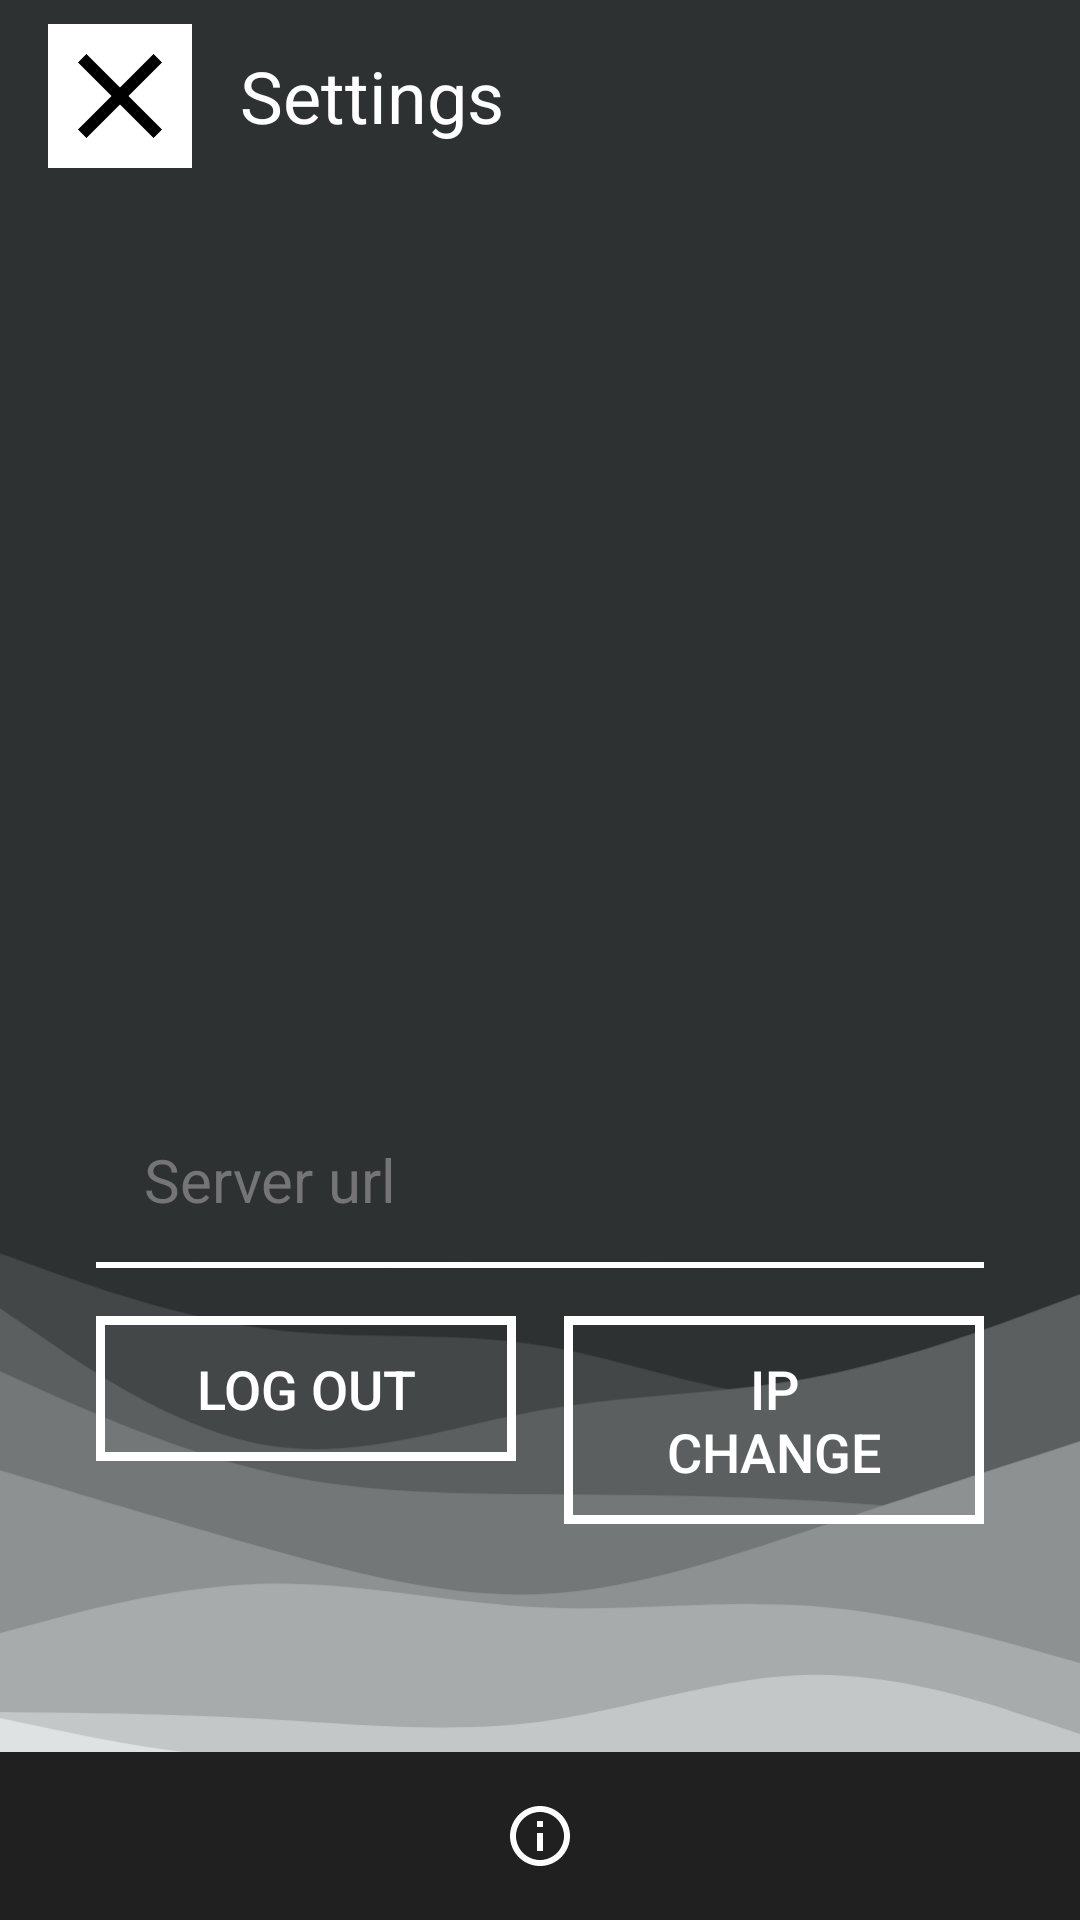

Icons on this 1080 × 1920 Android screen, each with the point to tap as (x,y):
close: (120,96)
info: (540,1836)
